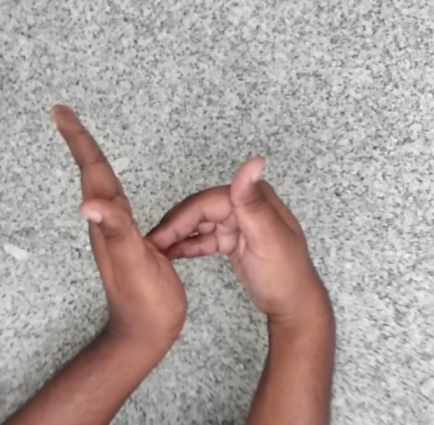ga: (44, 98, 308, 363)
